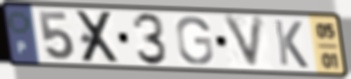3: (131, 11, 169, 67)
5: (36, 10, 77, 62)
G: (174, 15, 215, 66)
K: (272, 18, 311, 70)
V: (220, 13, 268, 73)
X: (74, 10, 123, 65)
